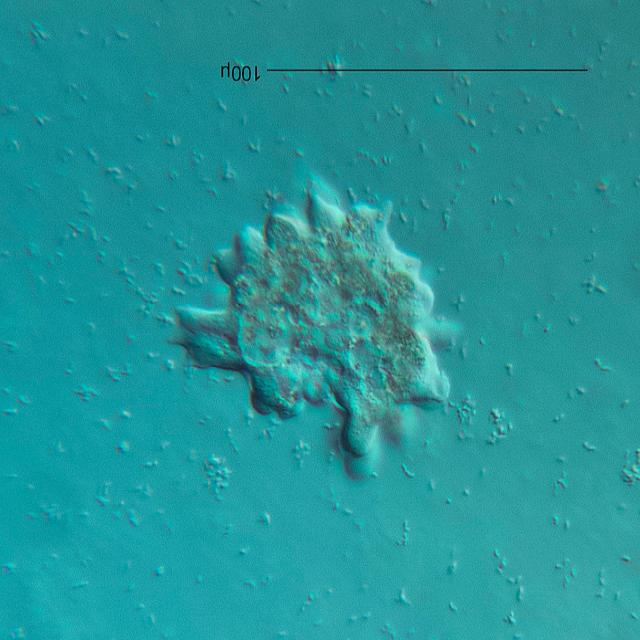Amoeba: (166, 176, 459, 481)
Rod_bacteria: (2, 4, 639, 640)
